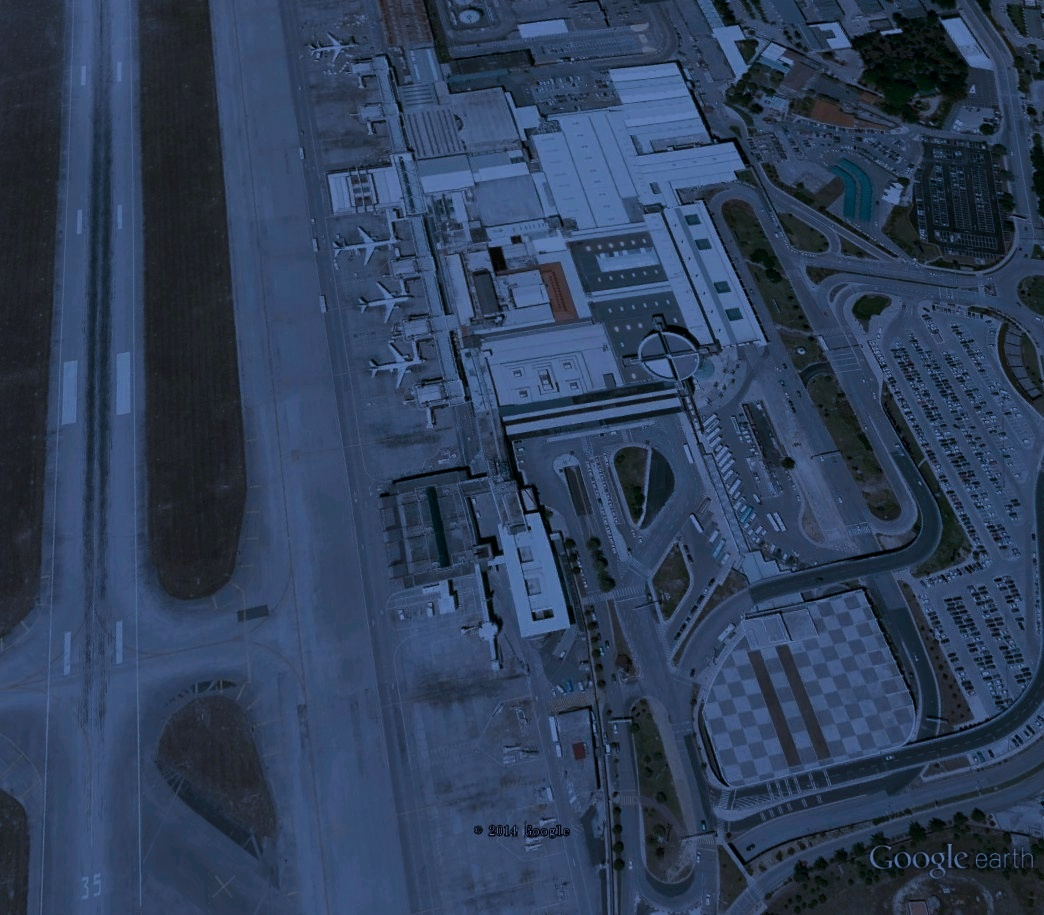aircraft: (327, 223, 409, 270), (346, 277, 417, 330), (361, 342, 429, 396), (300, 27, 367, 69)
